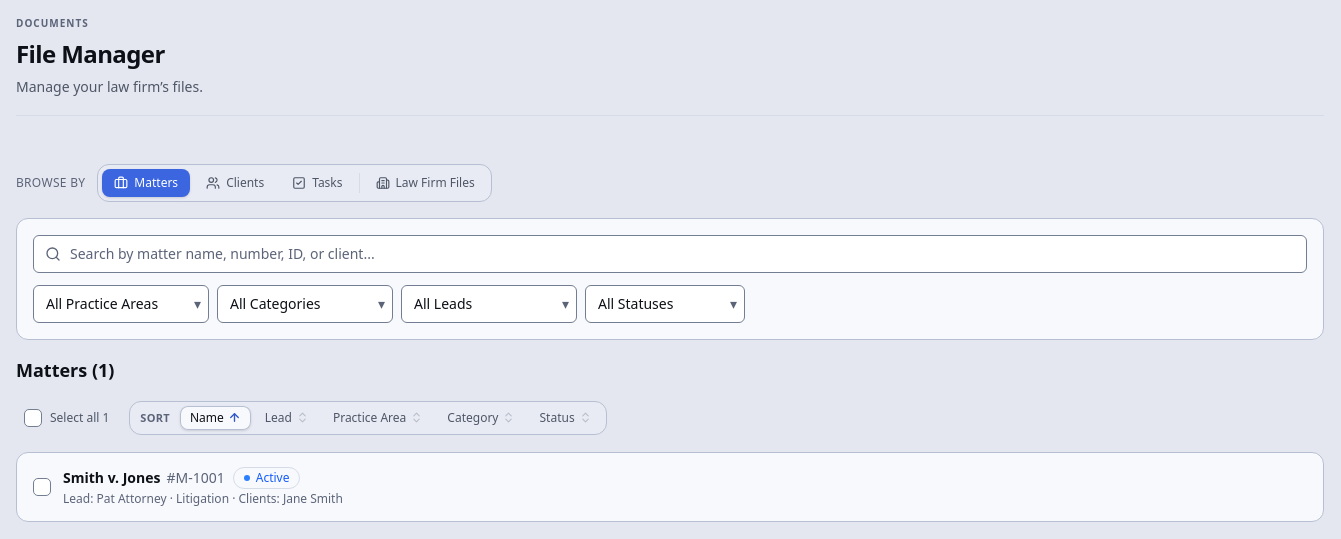
Test case: narrow role behavior › degrades a read-only member to a view-only grid instead of denying the page
Expected: the text "Smith v. Jones" is shown, [63,468,160,487]
Click the button "Law Firm Files": point(425, 183) [364,169,487,197]
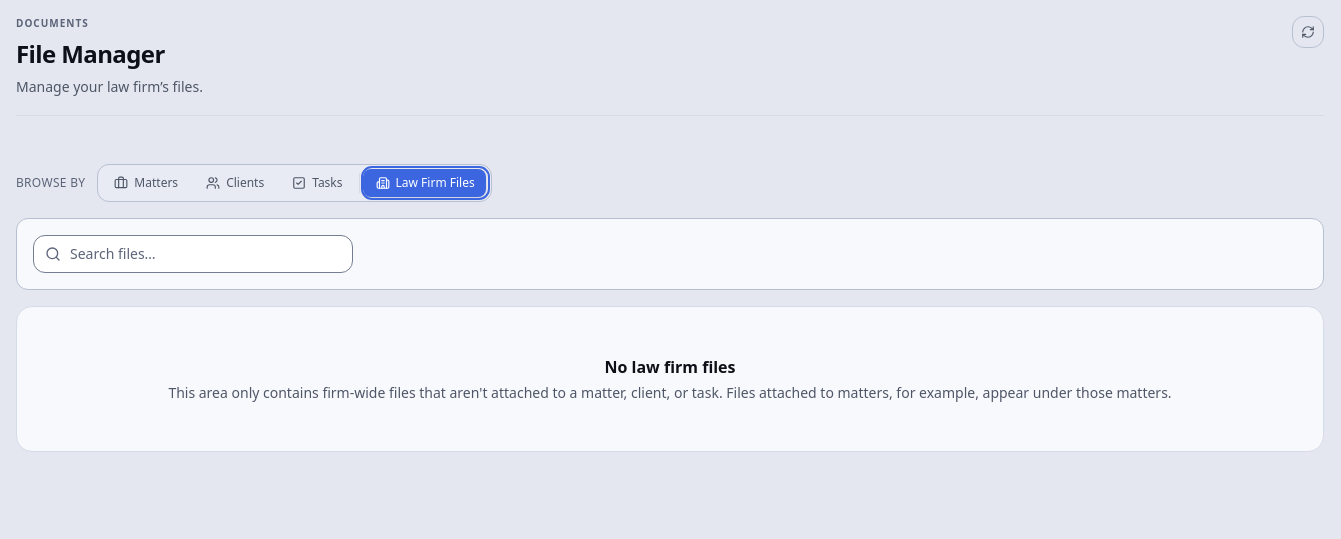
Expected: the heading "No law firm files" is shown, [604,356,736,378]
